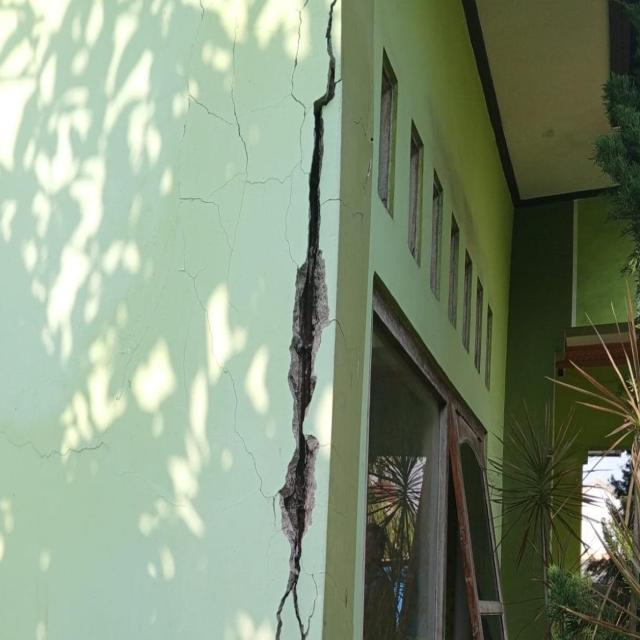damage: (278, 0, 347, 640)
